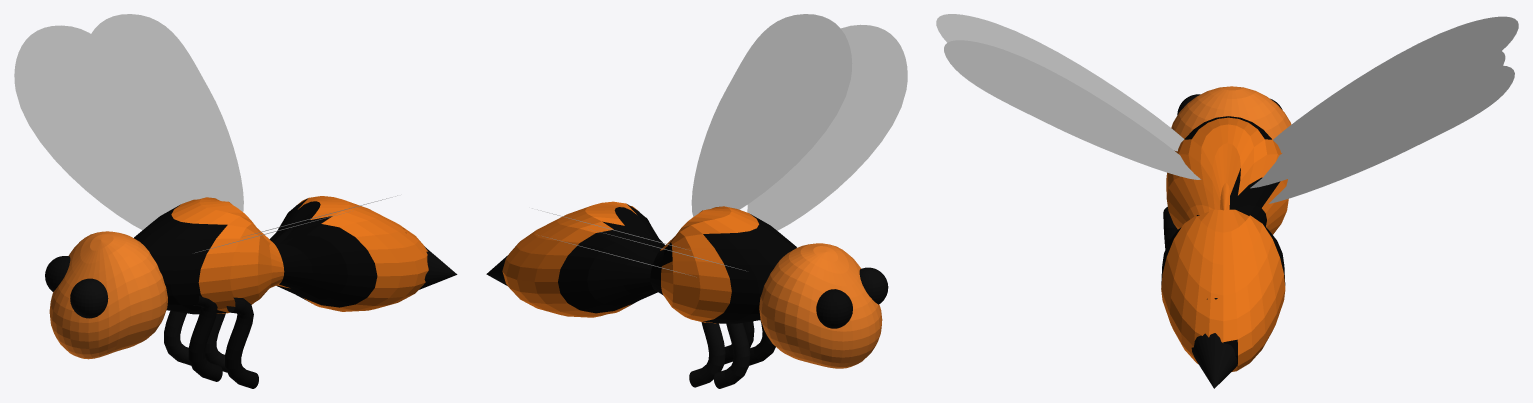
The model's file is Lebah2.fbx.
3 views of the same model, side by side, from view 1: azimuth 30°, elevation 25°; view 2: azimuth 150°, elevation 25°; view 3: azimuth 270°, elevation 25° (orthographic). The views are drawn at different scales.
Visible parts, largest first — view 1: Sphere, BezierCircle.002, BezierCircle.003, Sphere.001, BezierCurve.003, BezierCurve.002, Sphere.003, BezierCurve.001, Cone, BezierCurve.004, Sphere.002; view 2: Sphere, BezierCircle.001, BezierCircle, Sphere.001, BezierCurve.001, BezierCurve.004, Sphere.002, Sphere.003, BezierCurve.002; view 3: Sphere, BezierCircle.001, BezierCircle.002, BezierCircle.003, BezierCircle, BezierCircle.006, Sphere.001, Cone.
Part boxes in pixels (box(x1,y1,x2,y2)): Sphere: box(134, 196, 428, 314); BezierCircle.002: box(83, 14, 243, 211); BezierCircle.003: box(14, 25, 174, 229); Sphere.001: box(49, 231, 167, 359); BezierCurve.003: box(225, 297, 258, 388); BezierCurve.002: box(188, 295, 222, 381); Sphere.003: box(70, 278, 108, 318); BezierCurve.001: box(164, 311, 190, 365); Cone: box(403, 228, 457, 289); BezierCurve.004: box(205, 313, 227, 372); Sphere.002: box(45, 256, 70, 291); Sphere: box(502, 201, 796, 323); BezierCircle.001: box(691, 14, 852, 216); BezierCircle: box(747, 24, 907, 230); Sphere.001: box(759, 243, 882, 368); BezierCurve.001: box(714, 323, 750, 388); BezierCurve.004: box(689, 322, 725, 387); Sphere.002: box(816, 289, 852, 328); Sphere.003: box(859, 267, 888, 304); BezierCurve.002: box(749, 320, 775, 365); Sphere: box(1161, 116, 1288, 371); BezierCircle.001: box(944, 40, 1200, 179); BezierCircle.002: box(1250, 48, 1505, 188); BezierCircle.003: box(1273, 16, 1518, 152); BezierCircle: box(936, 14, 1184, 151); BezierCircle.006: box(1269, 65, 1514, 203); Sphere.001: box(1171, 86, 1291, 151); Cone: box(1191, 298, 1237, 388).
Bounding box in the file's own units: 645 × 418 × 770.
